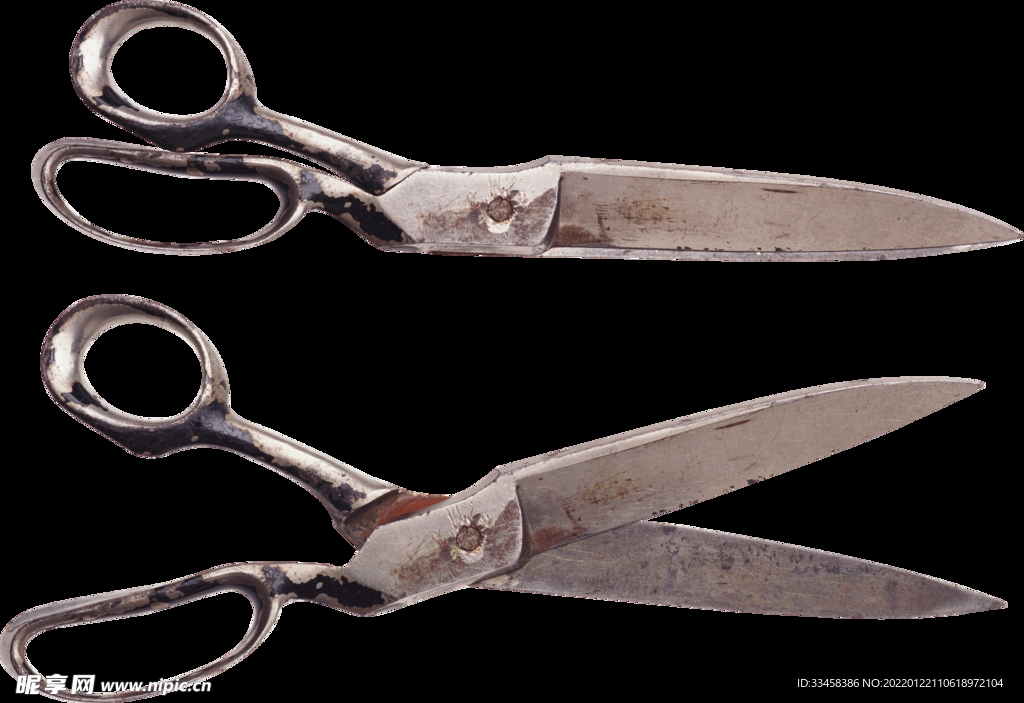scissors: (1, 293, 1023, 703), (10, 6, 1024, 265)
